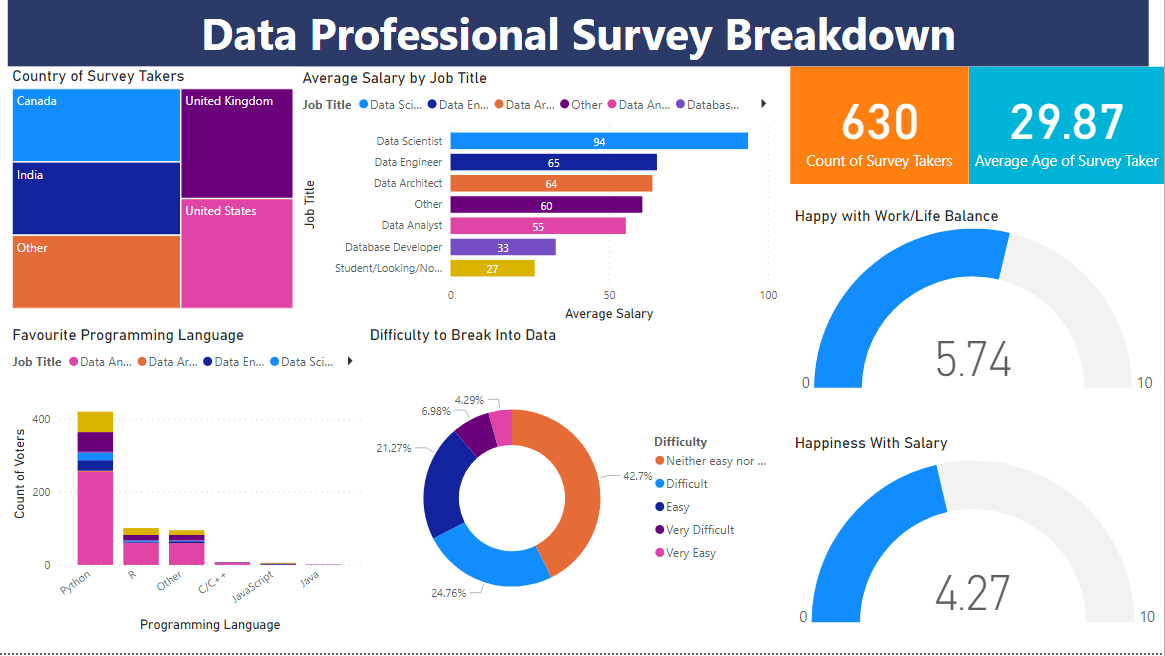

This screenshot's page, from the dashboard's own definition file:
{"tool":"powerbi","page":{"name":"Page 1","canvas":[1280,720],"ordinal":0},"visuals":[{"type":"textbox","box":[9.6,0,1253.9,75.5],"z":0},{"type":"card","fields":{"Values":["CountNonNull(Data Professional Survey.Unique ID)"]},"box":[869.4,75.5,196.4,129.1],"z":1000},{"type":"card","fields":{"Values":["Avg(Data Professional Survey.Q10 - Current Age)"]},"box":[1065.8,75.5,214.2,129.1],"z":2000},{"type":"barChart","title":"Average Salary by Job Title","fields":{"Category":["Data Professional Survey.Q1 - Which Title Best Fits your Current Role?.1"],"Y":["Avg(Data Professional Survey.Average Salary)"],"Series":["Data Professional Survey.Q1 - Which Title Best Fits your Current Role?.1"]},"box":[328.2,76.9,531.5,282.9],"z":3000},{"type":"columnChart","title":"Favourite Programming Language","fields":{"Category":["Data Professional Survey.Q5 - Favorite Programming Language.1"],"Y":["CountNonNull(Data Professional Survey.Unique ID)"],"Series":["Data Professional Survey.Q1 - Which Title Best Fits your Current Role?.1"]},"box":[9.6,359.8,392.8,342],"z":4000},{"type":"gauge","title":"Happy with Work/Life Balance","fields":{"Y":["Avg(Data Professional Survey.Q6 - How Happy are you in your Current Position with the following? (Work/Life Balance))"],"MinValue":["Min(Data Professional Survey.Q6 - How Happy are you in your Current Position with the following? (Work/Life Balance))1"],"MaxValue":["Max(Data Professional Survey.Q6 - How Happy are you in your Current Position with the following? (Work/Life Balance))2"]},"box":[869.4,229.4,410.6,208.8],"z":5000},{"type":"gauge","title":"Happiness With Salary","fields":{"Y":["Avg(Data Professional Survey.Q6 - How Happy are you in your Current Position with the following? (Salary))"],"MaxValue":["Max(Data Professional Survey.Q6 - How Happy are you in your Current Position with the following? (Salary))"],"MinValue":["Min(Data Professional Survey.Q6 - How Happy are you in your Current Position with the following? (Salary))"]},"box":[869.4,477.9,410.6,223.9],"z":6000},{"type":"donutChart","title":"Difficulty to Break Into Data","fields":{"Category":["Data Professional Survey.Q7 - How difficult was it for you to break into Data?"],"Y":["CountNonNull(Data Professional Survey.Q7 - How difficult was it for you to break into Data?)"]},"box":[402.4,359.8,457.3,359.8],"z":7000},{"type":"treemap","title":"Country of Survey Takers","fields":{"Group":["Data Professional Survey.Q11 - Which Country do you live in?.1"],"Values":["Count(Data Professional Survey.Q11 - Which Country do you live in?.1)"]},"box":[9.6,75.5,318.6,270.6],"z":8000}]}

Visuals, with their boxes in screenshot pixels (x1, y1, x2, y2), scaled from the page's 1280x720 canvas onto the 1165x656 screenshot:
textbox: Rect(9, 0, 1150, 69)
card - CountNonNull(Data Professional Survey.Unique ID): Rect(791, 69, 970, 186)
card - Avg(Data Professional Survey.Q10 - Current Age): Rect(970, 69, 1164, 186)
"Average Salary by Job Title" barChart: Rect(299, 70, 782, 328)
"Favourite Programming Language" columnChart: Rect(9, 328, 366, 639)
"Happy with Work/Life Balance" gauge: Rect(791, 209, 1164, 399)
"Happiness With Salary" gauge: Rect(791, 435, 1164, 639)
"Difficulty to Break Into Data" donutChart: Rect(366, 328, 782, 655)
"Country of Survey Takers" treemap: Rect(9, 69, 299, 315)
